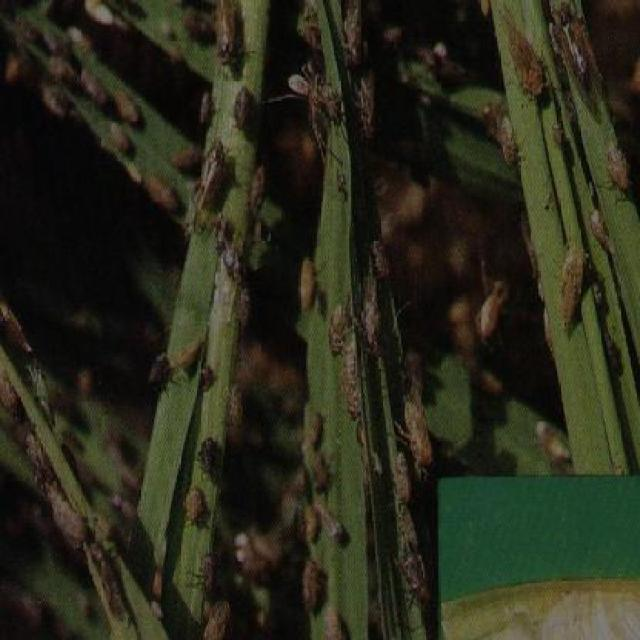brown-planthopper: (555, 7, 603, 105), (499, 7, 546, 101), (396, 520, 430, 602), (558, 245, 588, 329), (198, 138, 228, 208), (51, 493, 86, 552), (213, 2, 242, 67), (407, 395, 433, 463), (358, 278, 382, 351), (147, 172, 185, 216), (80, 63, 112, 112), (24, 435, 51, 490), (342, 348, 360, 422), (497, 118, 520, 168), (299, 258, 319, 314), (198, 432, 222, 478), (115, 87, 143, 125), (590, 210, 615, 252), (607, 148, 630, 192), (233, 82, 253, 132), (208, 603, 234, 640), (392, 452, 412, 500), (43, 83, 71, 117), (318, 504, 345, 538), (109, 126, 136, 160), (183, 487, 206, 525), (302, 558, 318, 612), (149, 352, 171, 391), (251, 168, 269, 214), (329, 302, 343, 352), (198, 562, 216, 600), (177, 140, 197, 174), (326, 609, 346, 640), (228, 387, 242, 431), (306, 406, 322, 443), (238, 288, 252, 330), (199, 93, 213, 122)
